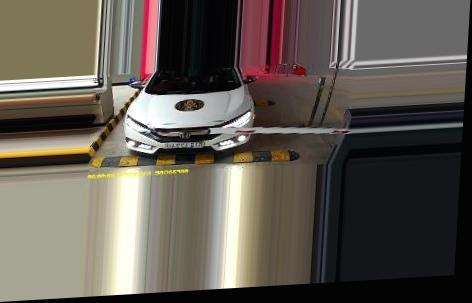License_Plate: (163, 138, 209, 152)
